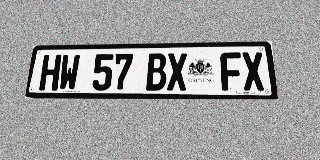5: (92, 54, 114, 91)
7: (112, 54, 133, 91)
B: (146, 53, 166, 91)
F: (220, 52, 243, 91)
H: (39, 55, 62, 91)
W: (58, 54, 80, 91)
X: (241, 52, 266, 91), (167, 53, 187, 91)
